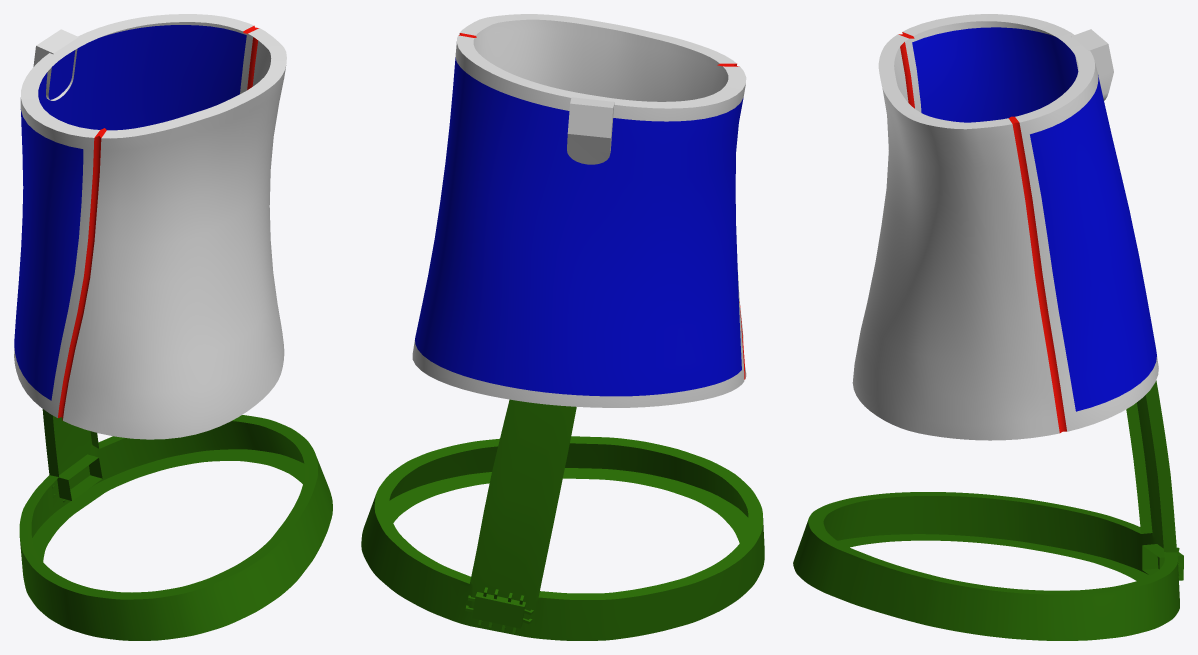
File: S_BRACELET_MULTI_TOOL.fbx
3 renders of one model, left to right at view 1: azimuth 30°, elevation 25°; view 2: azimuth 150°, elevation 25°; view 3: azimuth 270°, elevation 25°, orthographic. The views are drawn at different scales.
Parts seen in each view (by area): view 1: S_BRACELET_MULTI_TOOL; view 2: S_BRACELET_MULTI_TOOL; view 3: S_BRACELET_MULTI_TOOL.
Boxes of the visible parts, left/top/right/bottom form: S_BRACELET_MULTI_TOOL: left=14, top=14, right=332, bottom=640; S_BRACELET_MULTI_TOOL: left=361, top=14, right=764, bottom=640; S_BRACELET_MULTI_TOOL: left=793, top=14, right=1183, bottom=640.
Size of the model in its own units: 13.95 by 22.18 by 14.62.
